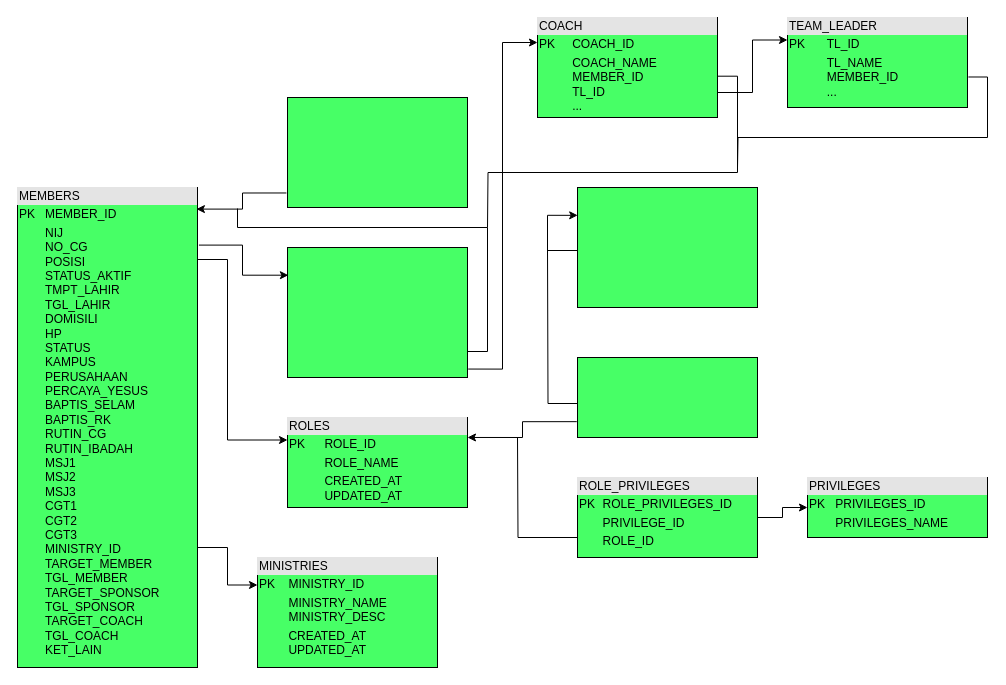
The diagram is 1006 pixels wide and 685 high, and some of its shapes have lost their labels. Here are the shapes that lost their labels. From the top down, the centre of each, then its label:
At pixel 377 152: "USERS PK USER_ID USERNAME FULL_NAME PASSWORD MEMBER_ID".
At pixel 667 247: "MENU PK MENU_ID MENU_DISPLAY_NAME MENU_PARENT_ID MENU_LEVEL MENU_LINK IS_SIDEBAR".
At pixel 377 312: "CG PK CG_ID NO_CG STATUS_CG WAKTU_CG LOKASI_CG MEMBER_ID COACH_ID".
At pixel 667 397: "ROLE_MENU PK ROLE_MENU_ID MENU_ID ROLE_ID".
